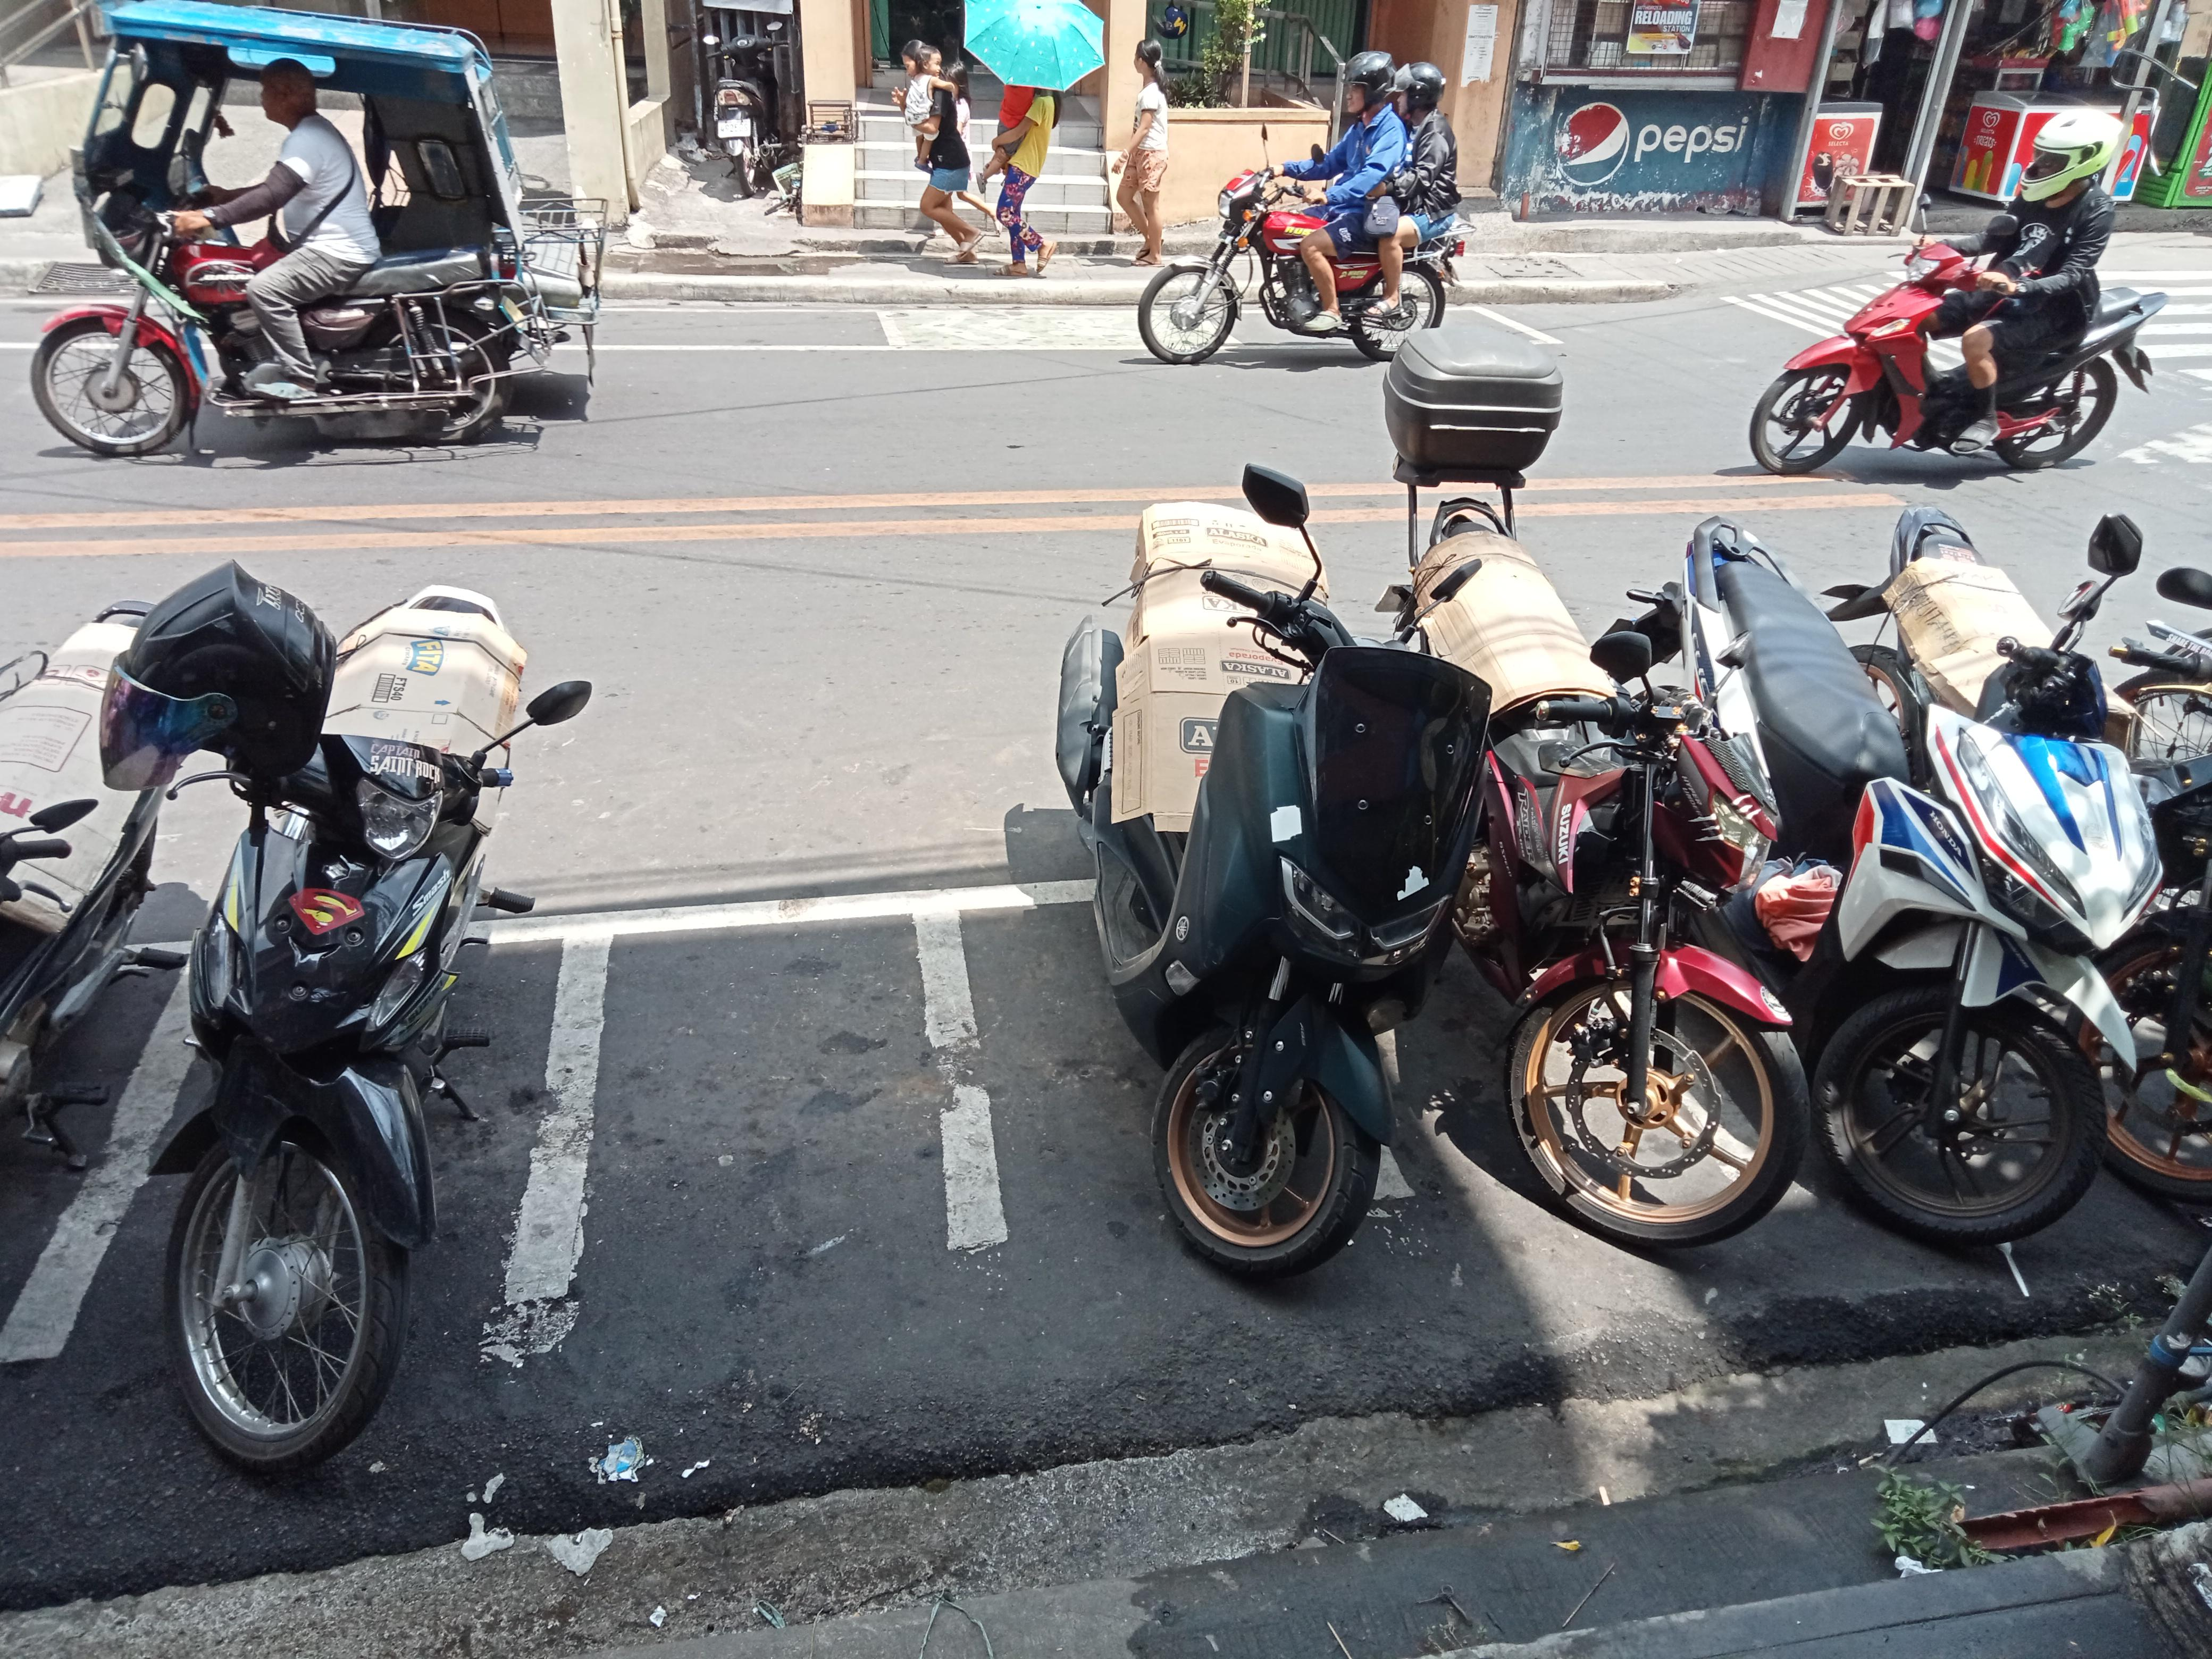occupied: (902, 861, 1435, 1284)
vacant: (507, 887, 1024, 1333)
